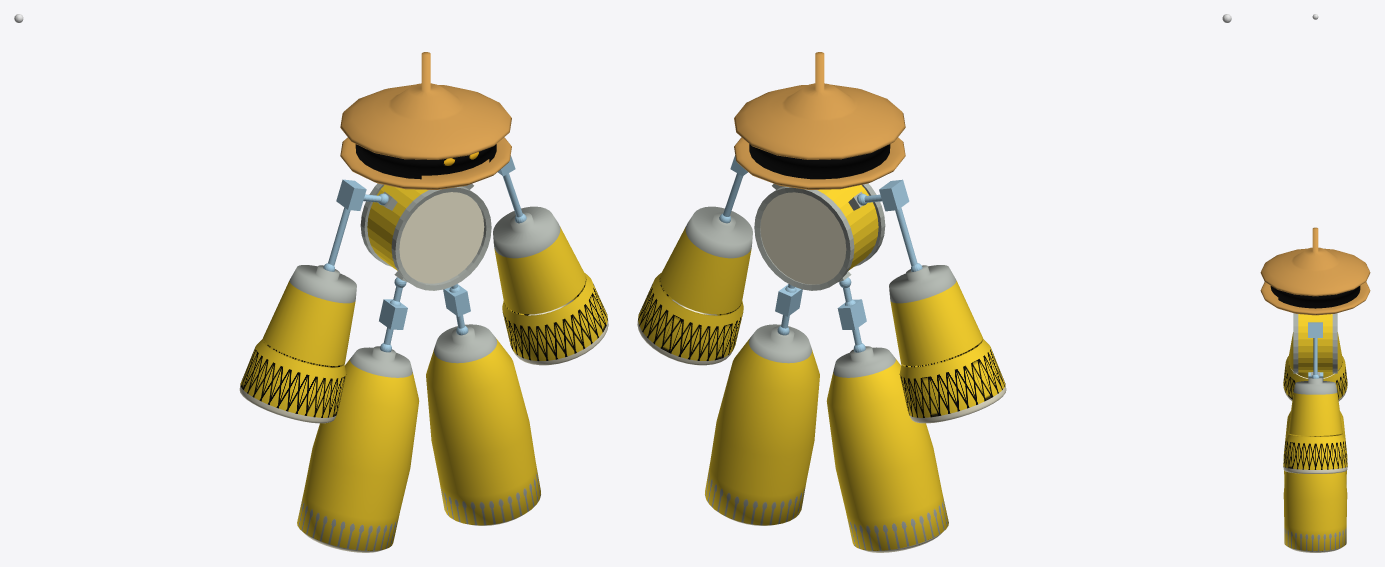
The model's file is kountDude.fbx.
3 views of the same model, side by side, from view 1: azimuth 30°, elevation 25°; view 2: azimuth 150°, elevation 25°; view 3: azimuth 270°, elevation 25° (orthographic). The views are drawn at different scales.
Parts seen in each view (by area): view 1: Cylinder.006, Cylinder.005, Cylinder.012, Cylinder.002, SnareBody, TopCymbal, BottomCymbal, Darkness, ShoulderCiube.003; view 2: Cylinder.006, Cylinder.005, Cylinder.012, Cylinder.002, SnareBody, TopCymbal, Darkness, BottomCymbal, ShoulderCiube.003; view 3: Cylinder.002, Cylinder.005, TopCymbal, SnareBody, Cylinder.012, BottomCymbal, Darkness, ShoulderCiube, Cylinder.006, Cylinder.001.
Part boxes in pixels (bbox=[...]): Cylinder.006: bbox=[297, 346, 419, 552]; Cylinder.005: bbox=[426, 324, 540, 525]; Cylinder.012: bbox=[239, 265, 356, 423]; Cylinder.002: bbox=[493, 206, 608, 365]; SnareBody: bbox=[360, 183, 491, 290]; TopCymbal: bbox=[340, 52, 511, 159]; BottomCymbal: bbox=[340, 137, 511, 189]; Darkness: bbox=[355, 144, 496, 179]; ShoulderCiube.003: bbox=[336, 179, 366, 210]; Cylinder.006: bbox=[826, 346, 948, 552]; Cylinder.005: bbox=[705, 324, 819, 525]; Cylinder.012: bbox=[889, 265, 1006, 423]; Cylinder.002: bbox=[637, 206, 752, 365]; SnareBody: bbox=[754, 183, 885, 290]; TopCymbal: bbox=[734, 52, 905, 159]; Darkness: bbox=[749, 144, 890, 179]; BottomCymbal: bbox=[734, 137, 905, 189]; ShoulderCiube.003: bbox=[879, 179, 909, 211]; Cylinder.002: bbox=[1283, 377, 1347, 473]; Cylinder.005: bbox=[1283, 471, 1347, 552]; TopCymbal: bbox=[1260, 227, 1370, 296]; SnareBody: bbox=[1293, 313, 1337, 375]; Cylinder.012: bbox=[1283, 332, 1347, 401]; BottomCymbal: bbox=[1260, 282, 1370, 315]; Darkness: bbox=[1270, 286, 1360, 308]; ShoulderCiube: bbox=[1308, 322, 1322, 337]; Cylinder.006: bbox=[1283, 411, 1347, 483]; Cylinder.001: bbox=[1313, 338, 1317, 374].
Size of the model in its own units: 1390 by 1386 by 355.
